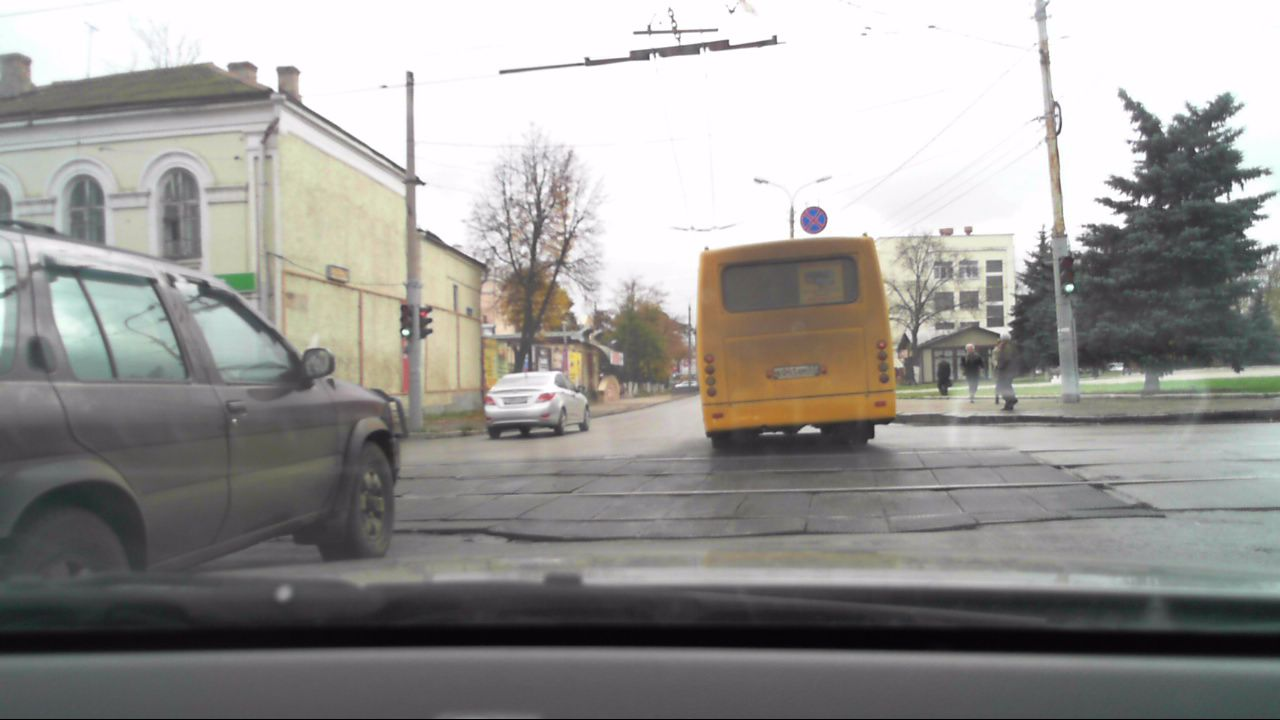No Parking: (799, 204, 833, 235)
